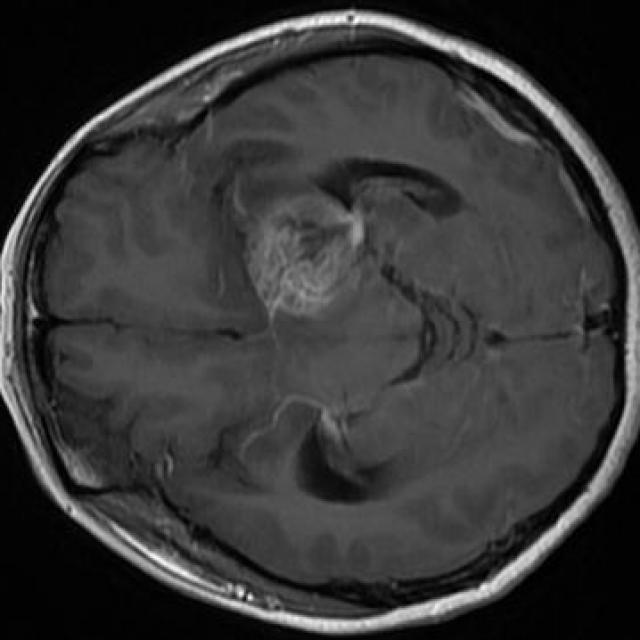glioma: (246, 194, 364, 319)
